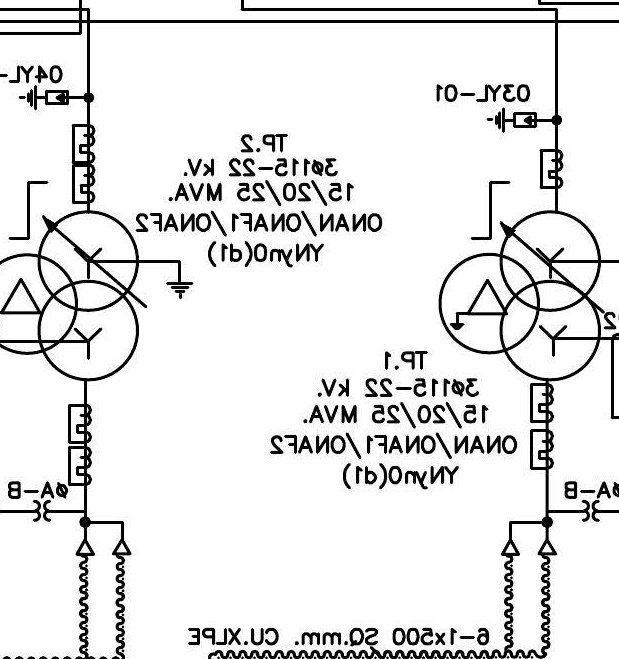11522_tx_ynyn0d1: (437, 209, 602, 383)
115_la: (18, 84, 70, 111), (486, 107, 538, 133)
terminator_double: (500, 520, 558, 556), (75, 520, 132, 556)
